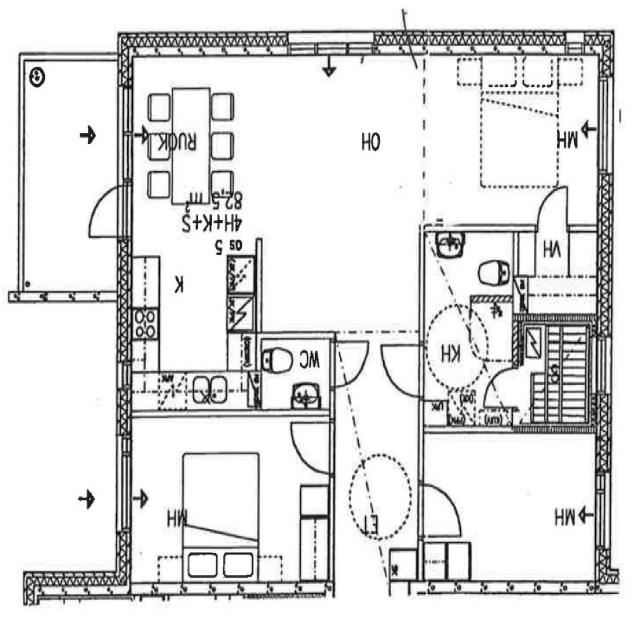door: (418, 478, 464, 537), (380, 340, 425, 400), (83, 181, 126, 241), (290, 418, 334, 476), (532, 183, 570, 234), (332, 339, 369, 391)
window: (112, 430, 138, 536), (113, 77, 137, 191), (595, 76, 618, 180), (592, 469, 614, 556), (588, 333, 615, 401), (416, 420, 430, 486)
zone: (417, 46, 606, 230), (429, 434, 601, 587), (21, 48, 124, 297), (120, 431, 282, 586), (422, 223, 520, 419), (514, 228, 600, 322), (524, 317, 593, 426), (258, 334, 334, 412), (390, 550, 417, 582)
